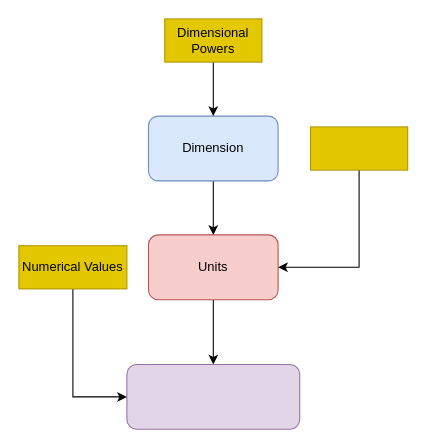
Image size: 427x448. Some labels were removed from this diagram. The centre of each missing label's shape, as x and y in pixels:
ArrayWUnits: point 213,396
Dimensional Scalings: point 358,148
